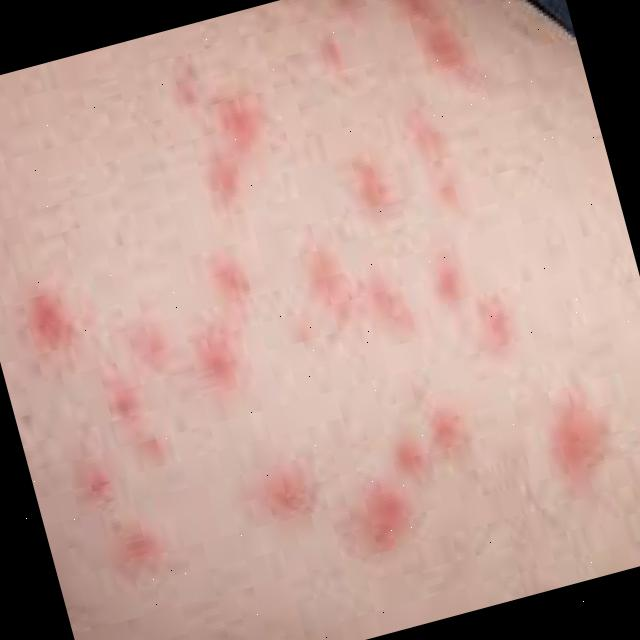kan emici bocekler: (322, 403, 497, 571), (285, 232, 410, 347), (173, 252, 269, 385), (182, 94, 281, 208), (410, 103, 481, 229), (375, 1, 474, 82), (243, 447, 335, 526), (535, 402, 614, 491), (21, 288, 78, 364), (115, 316, 174, 383), (473, 304, 526, 356), (347, 159, 393, 216), (103, 385, 150, 437), (427, 258, 469, 311), (113, 532, 162, 575), (83, 464, 122, 508)
